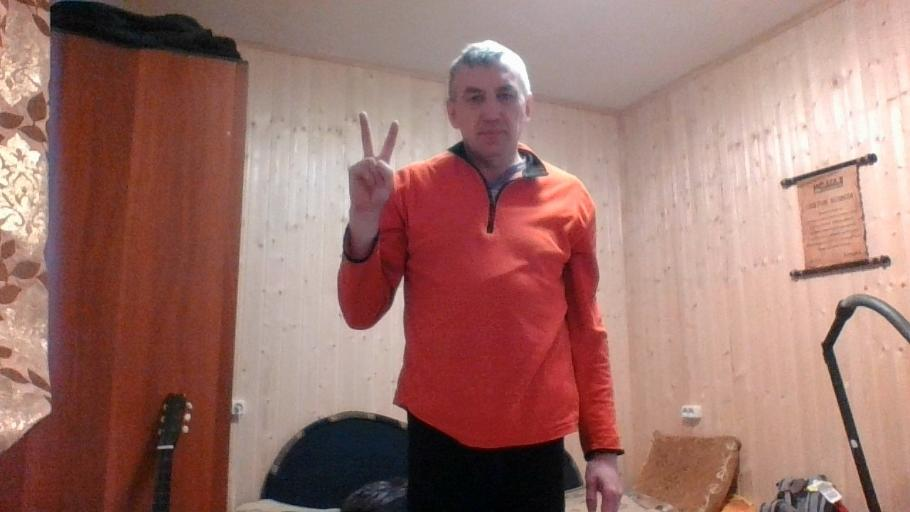no_gesture: (581, 453, 624, 510)
peace: (344, 108, 401, 216)
